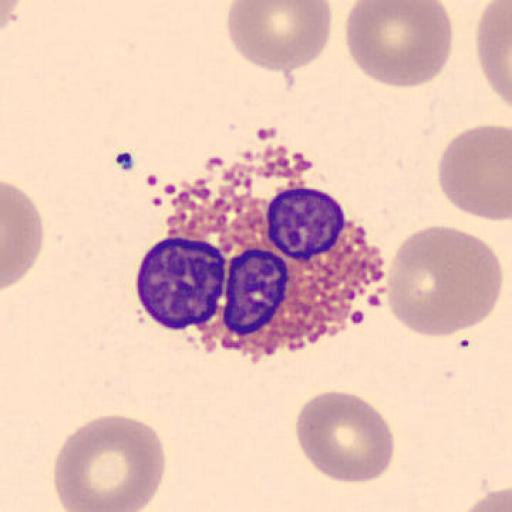RBC: (385, 224, 504, 338), (51, 412, 168, 512), (294, 388, 396, 486), (344, 0, 454, 89), (224, 0, 334, 73), (436, 123, 512, 223), (2, 180, 44, 290), (475, 0, 512, 110), (459, 485, 512, 512), (0, 0, 25, 39)
WBC: (133, 151, 386, 360)
